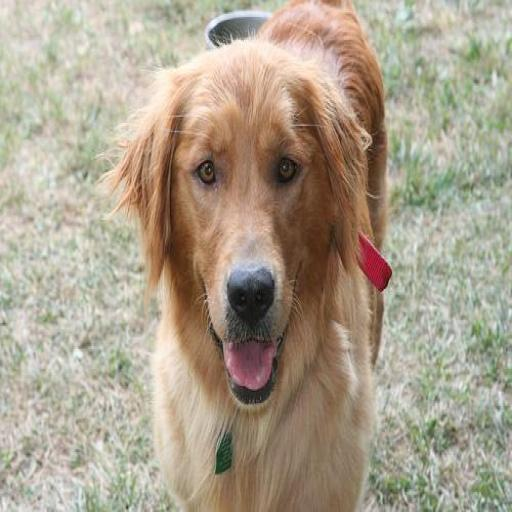dog_face: (127, 59, 356, 395)
